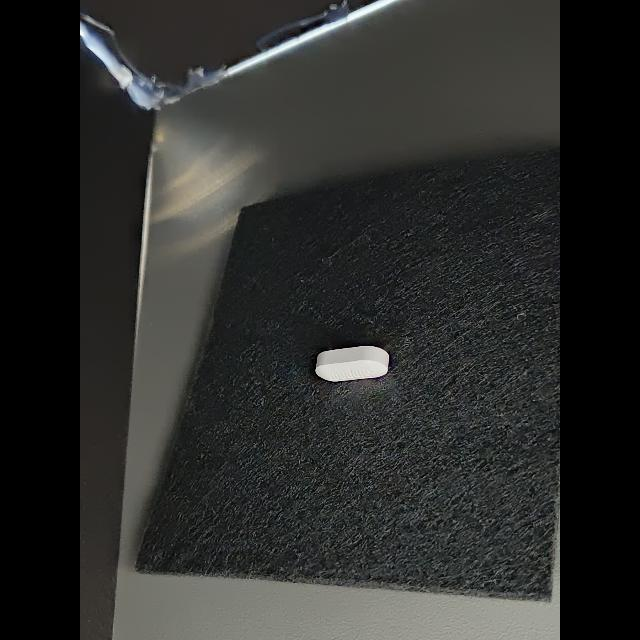Intact Pill: (315, 346, 389, 382)
